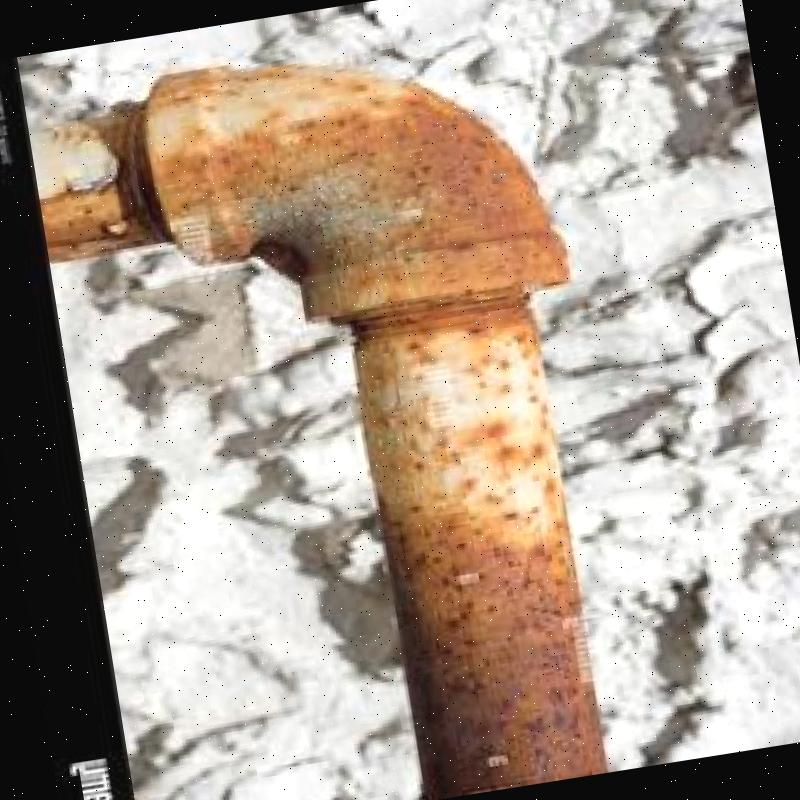corrosion: (25, 13, 654, 800)
